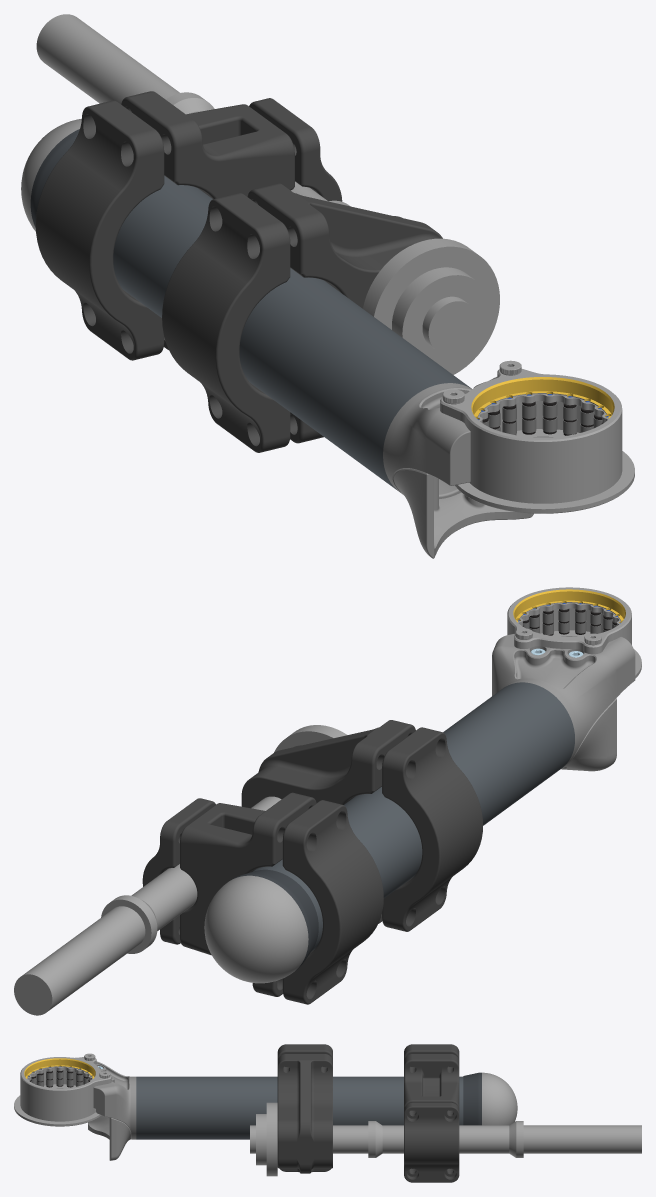
Rendered from RIGHT_ELBOW_PITCH_LINK_413mm_LENGTH_NO_WEIGHT.obj.
3 renders of one model, top to bottom at view 1: azimuth 30°, elevation 25°; view 2: azimuth 150°, elevation 25°; view 3: azimuth 270°, elevation 25°, orthographic. The views are drawn at different scales.
Parts seen in each view (by area): view 1: mesh785, mesh232, mesh257, mesh1173, mesh275, mesh227, mesh142, mesh3, mesh5, mesh394, mesh505, mesh765 (+26 smaller); view 2: mesh785, mesh232, mesh781, mesh247, mesh275, mesh150, mesh765, mesh227, mesh516, mesh279, mesh1443, mesh490 (+19 smaller); view 3: mesh785, mesh275, mesh1173, mesh279, mesh292, mesh781, mesh283, mesh473, mesh2, mesh1318, mesh288, mesh755 (+33 smaller).
Part boxes in pixels (x1,y1,x2,y2): mesh785: (113,176,471,490); mesh232: (36,152,246,410); mesh257: (92,152,288,441); mesh1173: (465,410,622,503); mesh275: (36,14,179,104); mesh227: (67,116,261,282); mesh142: (178,142,293,197); mesh3: (374,246,499,374); mesh5: (402,275,491,369); mesh394: (313,205,437,248); mesh505: (304,235,378,432); mesh765: (388,388,444,472); mesh785: (253,682,574,951); mesh232: (317,768,482,970); mesh781: (204,875,308,983); mesh247: (284,768,438,995); mesh275: (22,906,145,1011); mesh150: (181,833,271,988); mesh765: (537,650,616,735); mesh227: (305,740,457,870); mesh516: (242,760,371,808); mesh279: (131,864,197,930); mesh1443: (561,712,616,771); mesh490: (266,737,363,770); mesh785: (136,1076,463,1139); mesh275: (523,1125,641,1153); mesh1173: (20,1075,93,1121); mesh279: (382,1125,509,1153); mesh292: (405,1130,458,1163); mesh781: (482,1072,517,1125); mesh283: (250,1125,368,1153); mesh473: (279,1137,331,1163); mesh2: (266,1102,277,1176); mesh1318: (463,1073,477,1125); mesh288: (405,1117,458,1130); mesh755: (111,1076,130,1122).
Bounding box in the file's own units: 0.1419 × 0.1114 × 0.5665.
